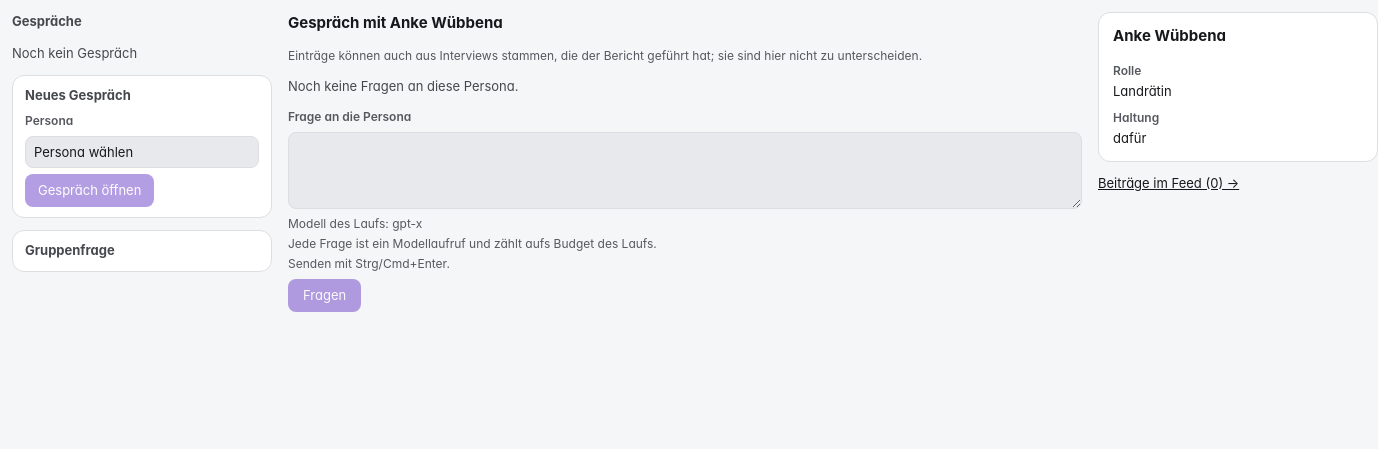
Test: RunInterviewsView › Antwort wird höflich angesagt und der Fokus bleibt im Eingabefeld
Type "Hallo" into the text box with test id "ask-input" at (685, 170), box [288,132,1082,208]
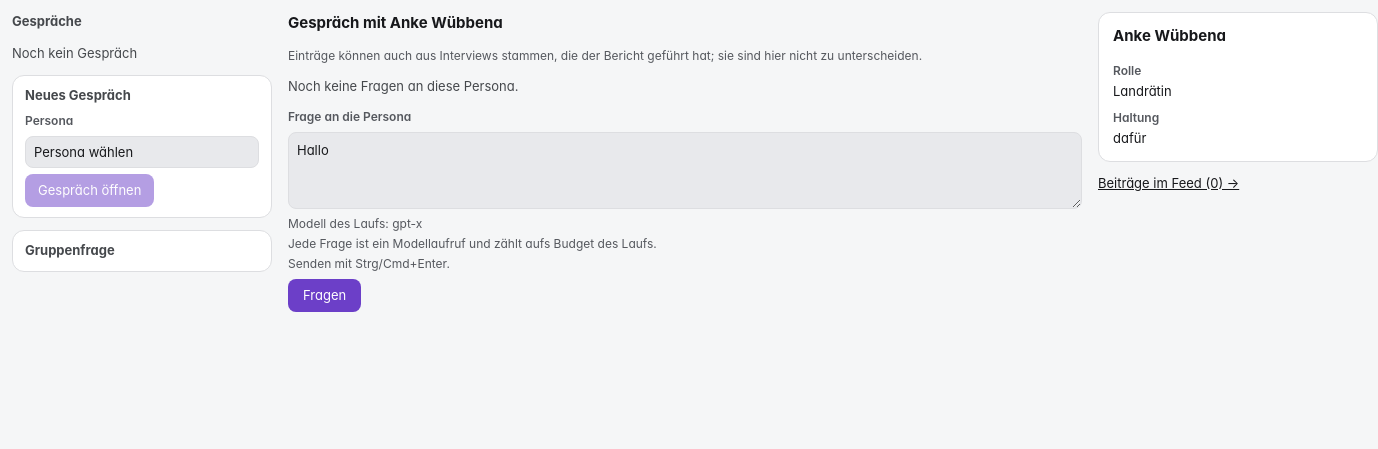
Submit the form with test id "ask-form", box [288,108,1082,312]
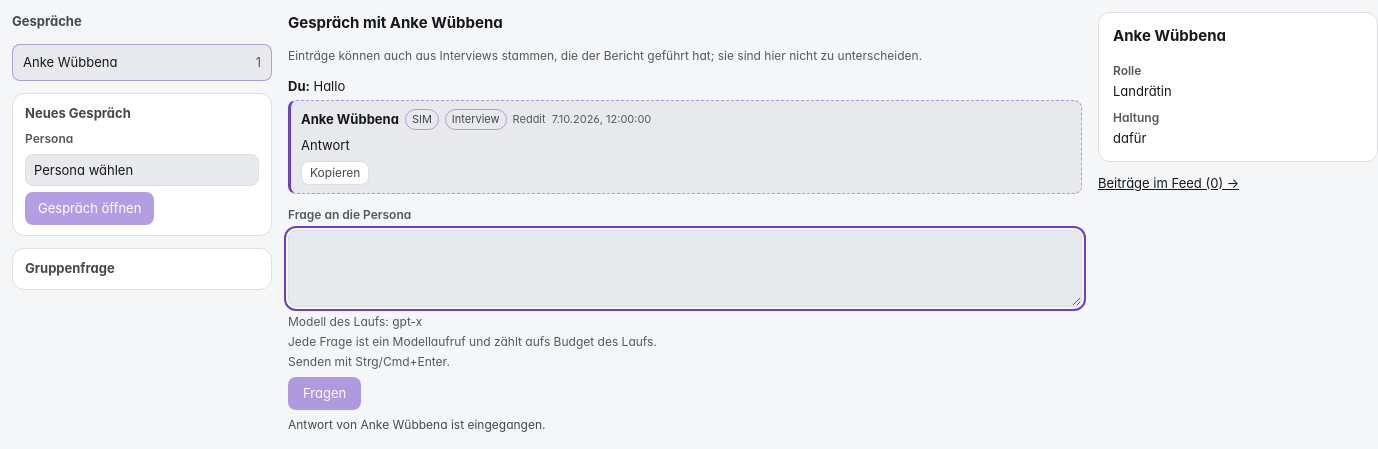
Expected: the message with test id "ask-status" shows "Anke Wübbena", [288,417,546,432]
